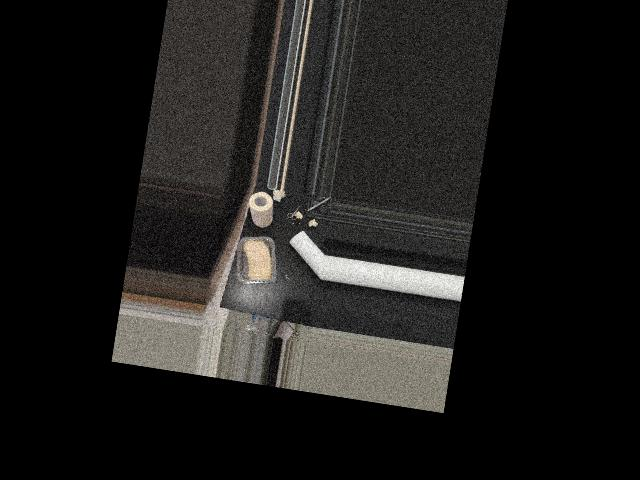cheese: (235, 233, 281, 288)
